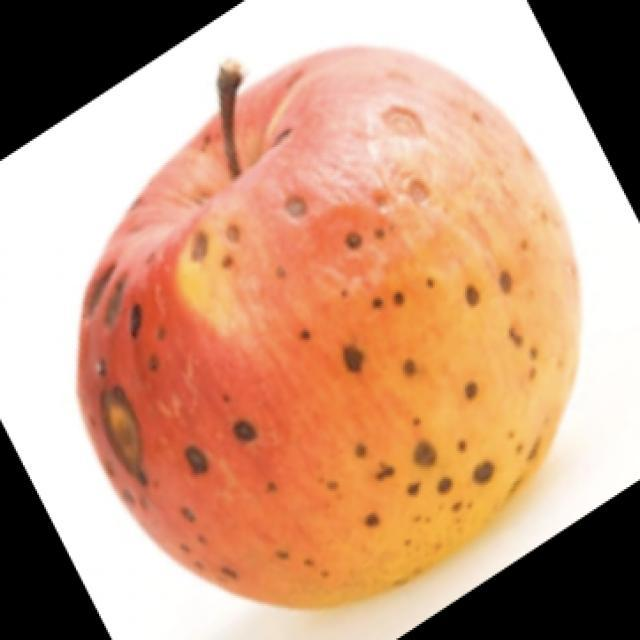Rotten: (58, 30, 582, 605)
